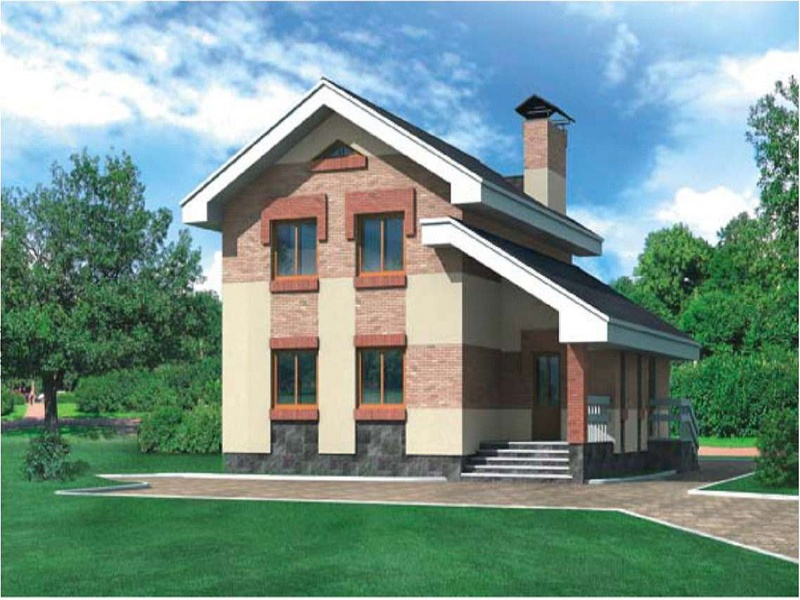window: (266, 214, 320, 275), (354, 346, 406, 406), (351, 213, 401, 271), (268, 346, 316, 404)
